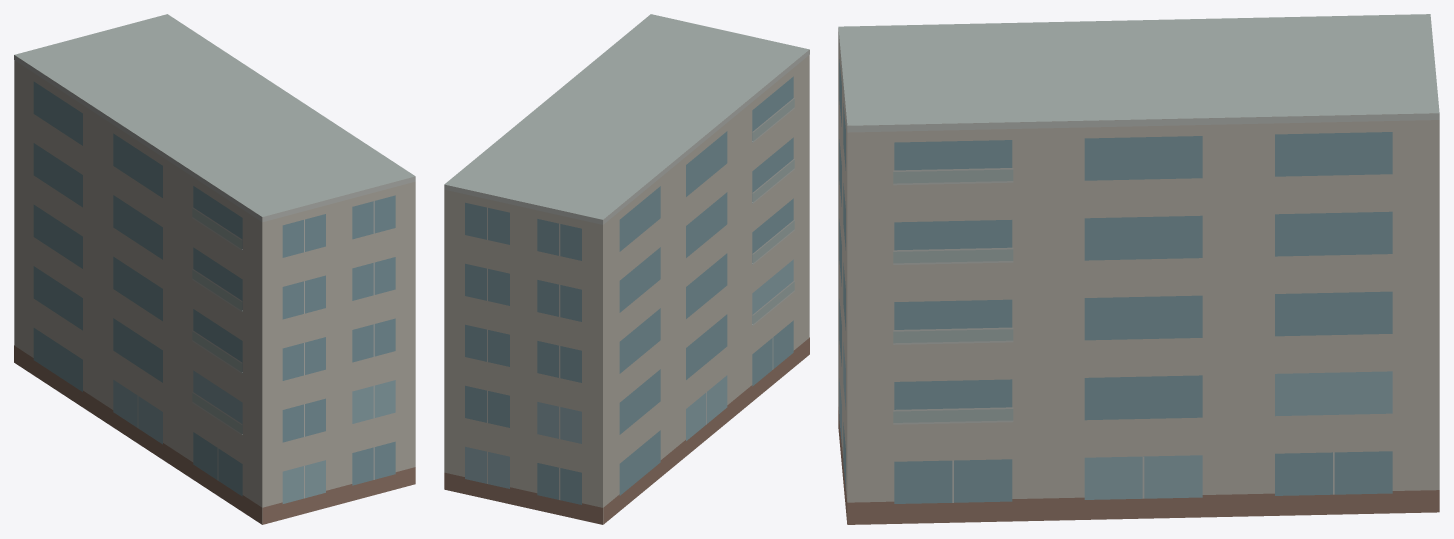
Rendered from survey-upis-32749881.glb.
The picture shows the model from 3 angles, left to right: view 1: azimuth 30°, elevation 25°; view 2: azimuth 150°, elevation 25°; view 3: azimuth 270°, elevation 25°; orthographic projection. The views are drawn at different scales.
Parts seen in each view (by area): view 1: survey-upis-32749881.tmp; view 2: survey-upis-32749881.tmp; view 3: survey-upis-32749881.tmp.
Boxes of the visible parts, <box> form: survey-upis-32749881.tmp: <box>14,14,415,524</box>; survey-upis-32749881.tmp: <box>444,14,809,524</box>; survey-upis-32749881.tmp: <box>838,14,1439,524</box>.
Bounding box in the file's own units: 8.69 × 14.45 × 19.74.
